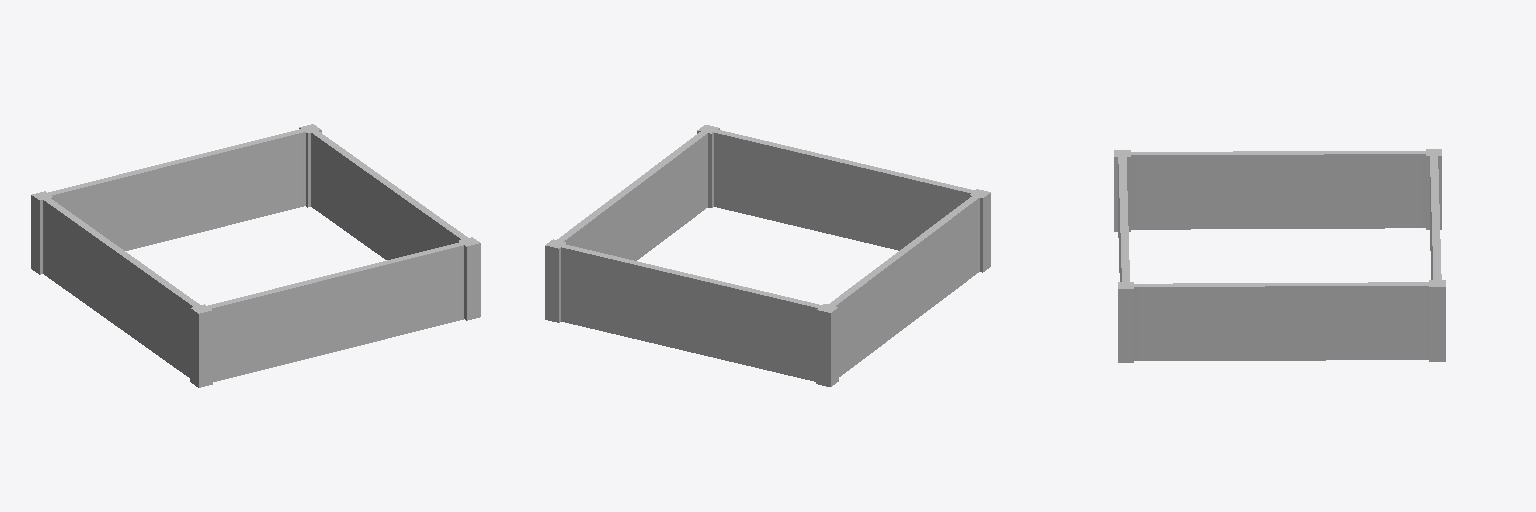
The model's file is compostboxes_2.obj.
3 views of the same model, side by side, from view 1: azimuth 30°, elevation 25°; view 2: azimuth 150°, elevation 25°; view 3: azimuth 270°, elevation 25° (orthographic).
Parts seen in each view (by area): view 1: Mesh1 Group1 Group_3_1 Model; view 2: Mesh1 Group1 Group_3_1 Model; view 3: Mesh1 Group1 Group_3_1 Model.
Boxes of the visible parts, x1=… form: Mesh1 Group1 Group_3_1 Model: x1=31, y1=124, x2=480, y2=387; Mesh1 Group1 Group_3_1 Model: x1=545, y1=125, x2=990, y2=386; Mesh1 Group1 Group_3_1 Model: x1=1114, y1=149, x2=1445, y2=362.
Bounding box in the file's own units: 2.02 × 0.5 × 2.02.